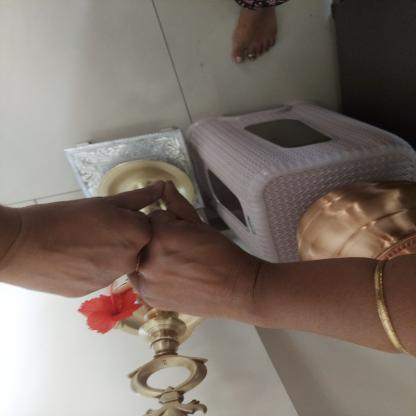A: (14, 182, 260, 340)
